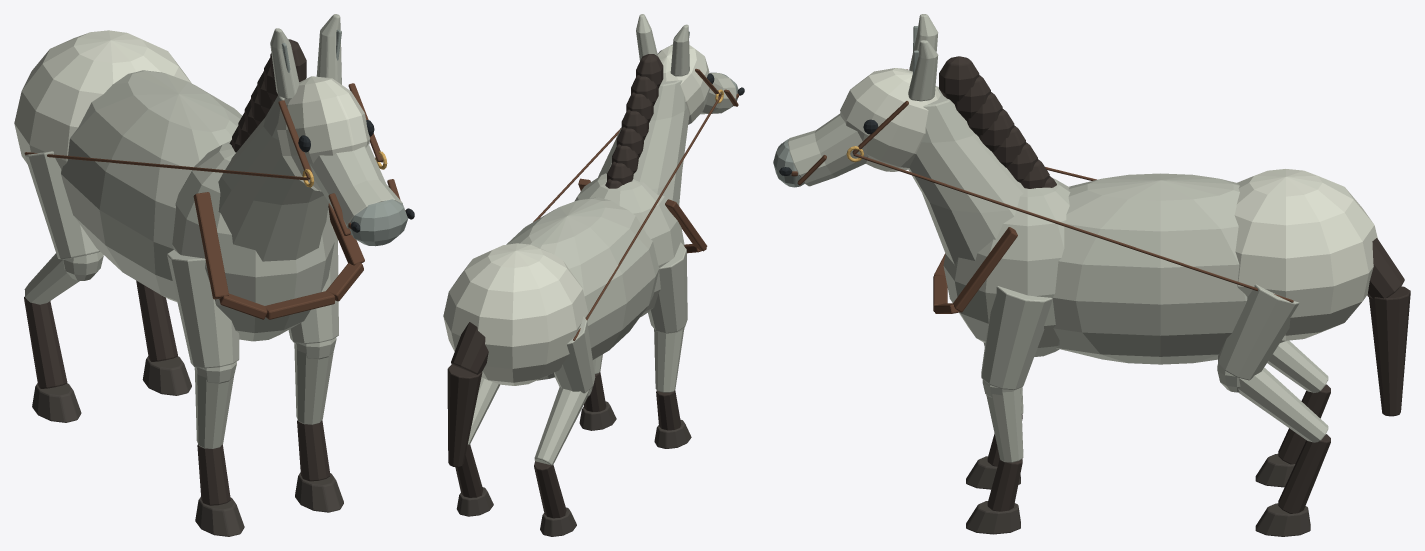
File: horse_grey.glb
3 renders of one model, left to right at view 1: azimuth 30°, elevation 25°; view 2: azimuth 150°, elevation 25°; view 3: azimuth 270°, elevation 25°, orthographic. The views are drawn at different scales.
Visible parts, largest first — view 1: horse_grey__structure, horse_grey__finish, horse_grey__attachments; view 2: horse_grey__structure, horse_grey__finish, horse_grey__attachments; view 3: horse_grey__structure, horse_grey__finish, horse_grey__attachments.
Boxes of the visible parts, x1,y1,x2,y2 form: horse_grey__structure: (14,14,402,505); horse_grey__finish: (32,29,414,536); horse_grey__attachments: (24,83,405,319); horse_grey__structure: (443,14,736,518); horse_grey__finish: (447,31,744,536); horse_grey__attachments: (533,68,738,340); horse_grey__structure: (787,14,1377,513); horse_grey__finish: (773,26,1410,536); horse_grey__attachments: (791,69,1293,313).
Bounding box in the file's own units: 0.9386 × 2.69 × 3.26.
